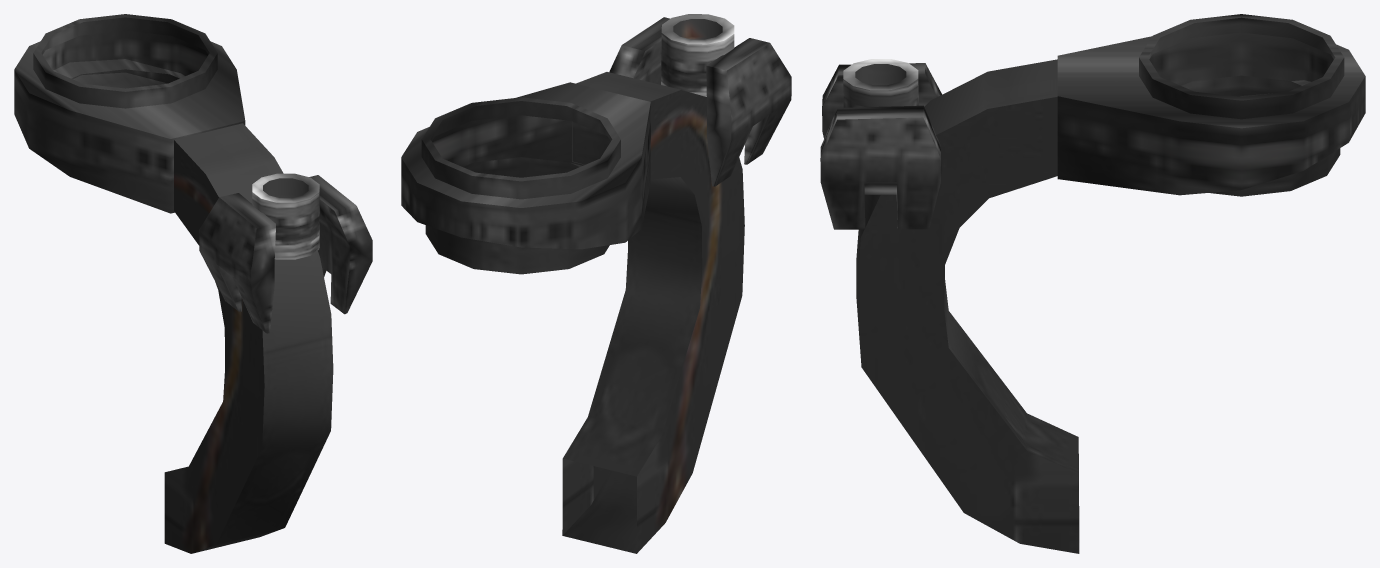
Rendered from Body_SteerLeftRear.dae.
The picture shows the model from 3 angles, left to right: view 1: azimuth 30°, elevation 25°; view 2: azimuth 150°, elevation 25°; view 3: azimuth 270°, elevation 25°; orthographic projection. The views are drawn at different scales.
Visible parts, largest first — view 1: suspension_steer_B_L; view 2: suspension_steer_B_L; view 3: suspension_steer_B_L.
Boxes of the visible parts, x1,y1,x2,y2 form: suspension_steer_B_L: (14,14,372,553); suspension_steer_B_L: (401,14,791,553); suspension_steer_B_L: (820,14,1365,553).
Bounding box in the file's own units: 0.2102 × 0.4622 × 0.4469.
Materials: 2 (2 with a texture image).
